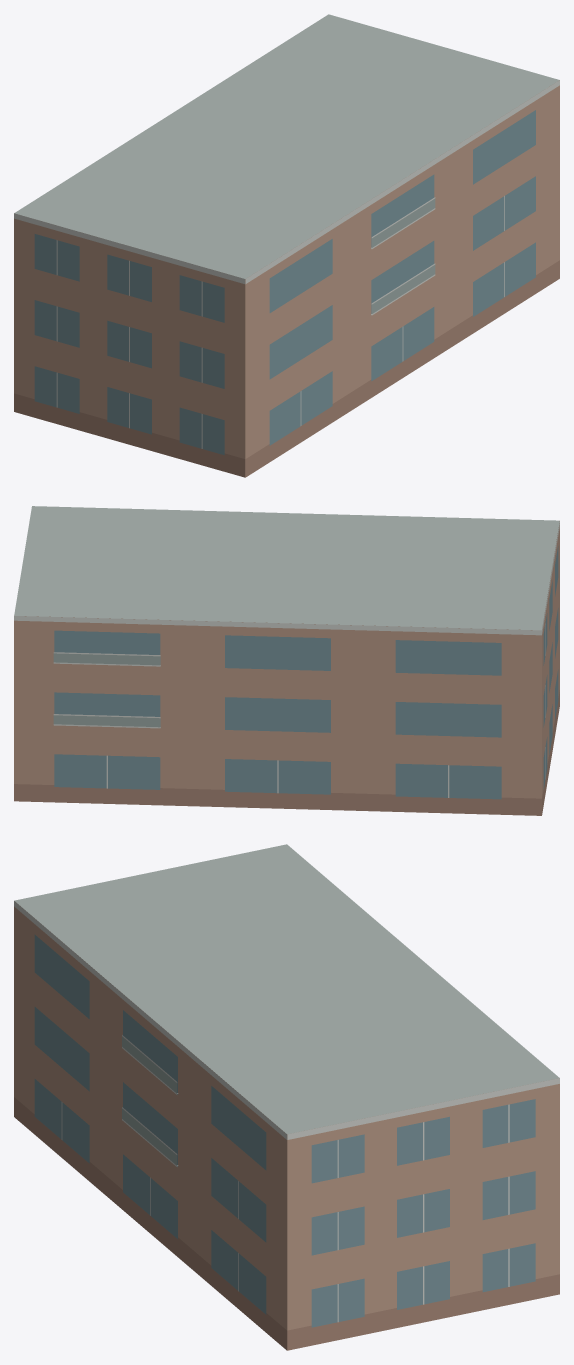
File: survey-upis-32913186.glb
3 renders of one model, top to bottom at view 1: azimuth 30°, elevation 25°; view 2: azimuth 150°, elevation 25°; view 3: azimuth 270°, elevation 25°, orthographic. The views are drawn at different scales.
Parts seen in each view (by area): view 1: survey-upis-32913186.tmp; view 2: survey-upis-32913186.tmp; view 3: survey-upis-32913186.tmp.
Part boxes in pixels (<box>): survey-upis-32913186.tmp: <box>14,14,559,477</box>; survey-upis-32913186.tmp: <box>14,506,559,815</box>; survey-upis-32913186.tmp: <box>14,844,559,1350</box>.
Size of the model in its own units: 26.33 by 9.15 by 20.93.
